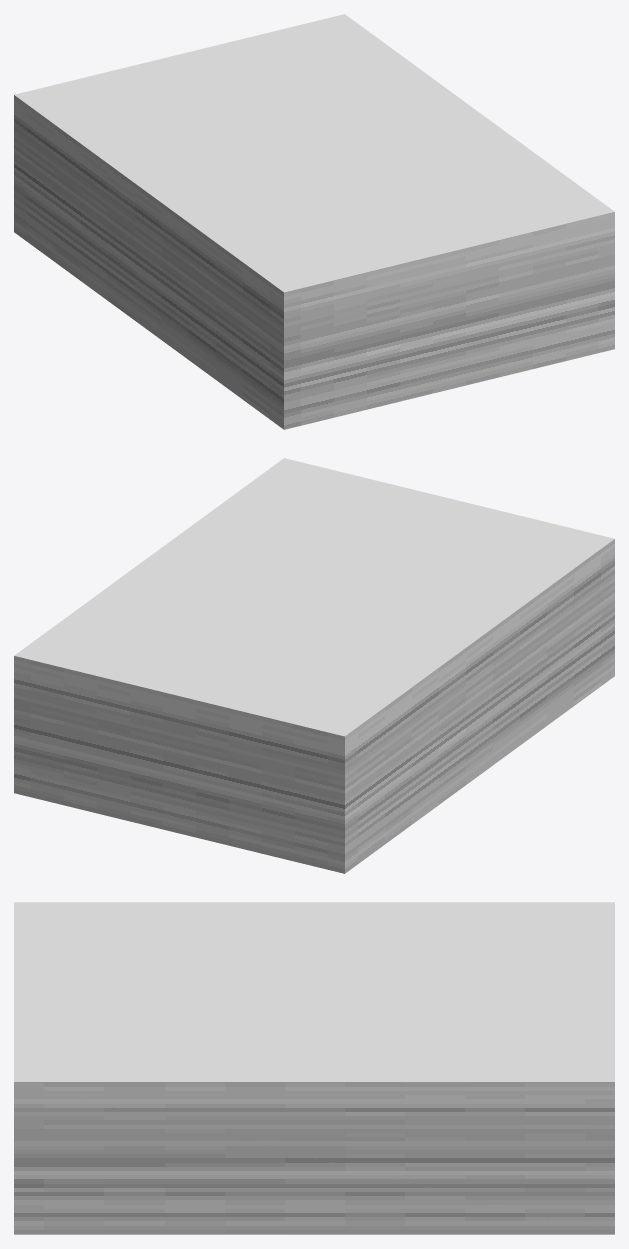
Rendered from paper_stack.glb.
3 renders of one model, top to bottom at view 1: azimuth 30°, elevation 25°; view 2: azimuth 150°, elevation 25°; view 3: azimuth 270°, elevation 25°, orthographic. The views are drawn at different scales.
Parts seen in each view (by area): view 1: paper_stack_large; view 2: paper_stack_large; view 3: paper_stack_large.
Boxes of the visible parts, <box> form: paper_stack_large: <box>14,14,614,429</box>; paper_stack_large: <box>14,458,614,873</box>; paper_stack_large: <box>14,902,614,1234</box>.
Size of the model in its own units: 0.2976 by 0.1181 by 0.4209.
Materials: 1 (1 with a texture image).
